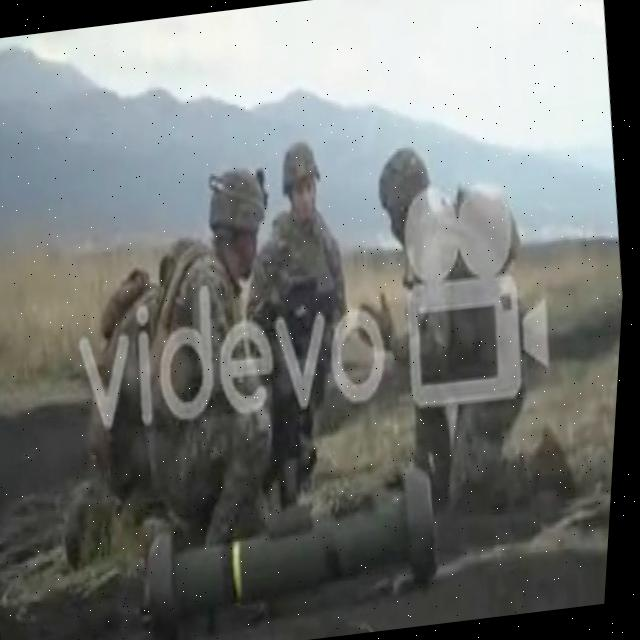rocket: (136, 459, 454, 640)
